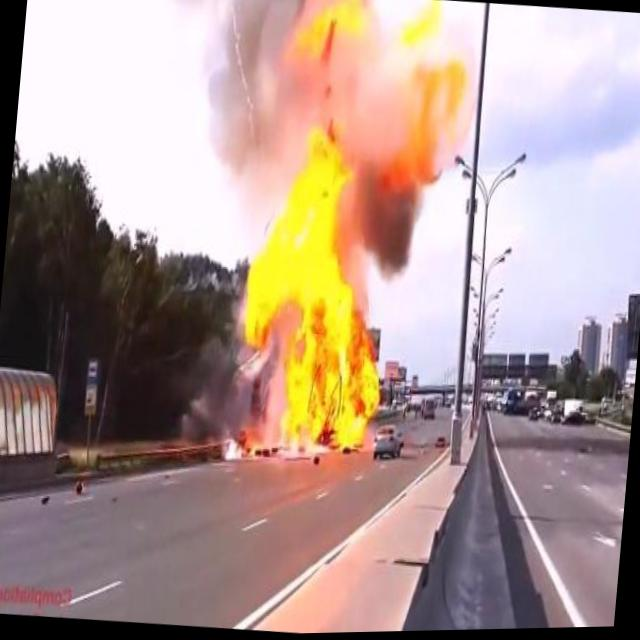fire: (222, 114, 414, 481), (292, 0, 372, 64), (389, 0, 448, 54)
